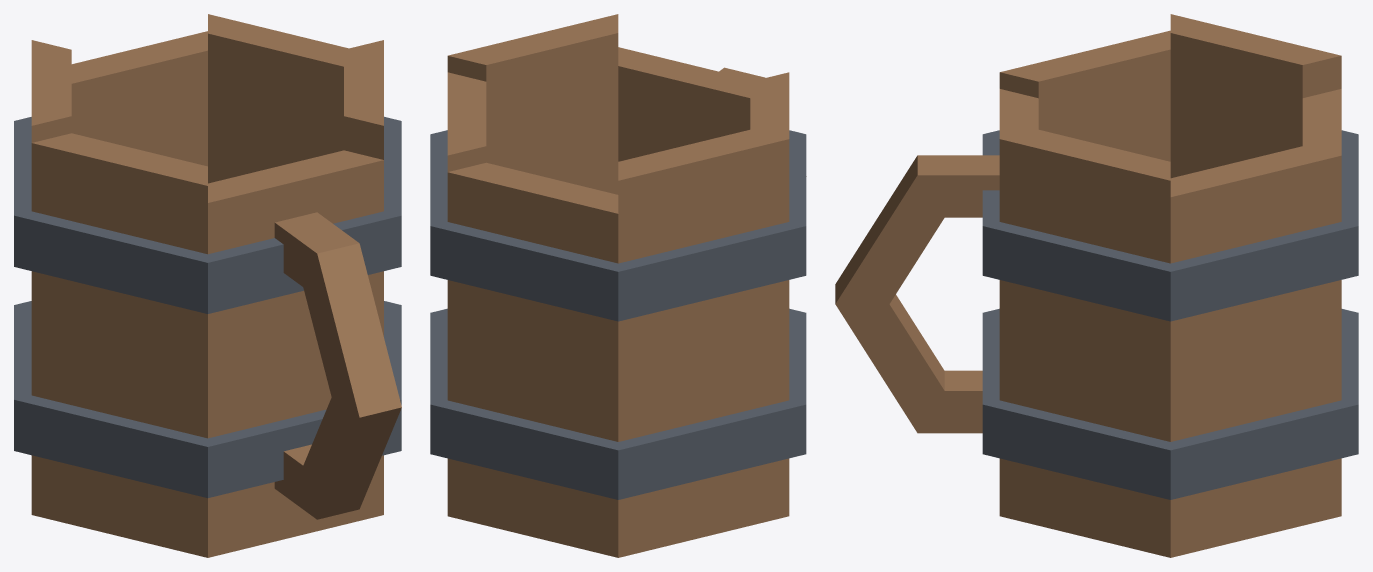
File: tankard.dae
3 renders of one model, left to right at view 1: azimuth 30°, elevation 25°; view 2: azimuth 150°, elevation 25°; view 3: azimuth 270°, elevation 25°, orthographic. The views are drawn at different scales.
Parts seen in each view (by area): view 1: tankard; view 2: tankard; view 3: tankard.
Part boxes in pixels (bbox=[...]): tankard: bbox=[14, 14, 401, 557]; tankard: bbox=[430, 14, 806, 557]; tankard: bbox=[835, 14, 1358, 557].
Bounding box in the file's own units: 0.1565 × 0.1886 × 0.15.
